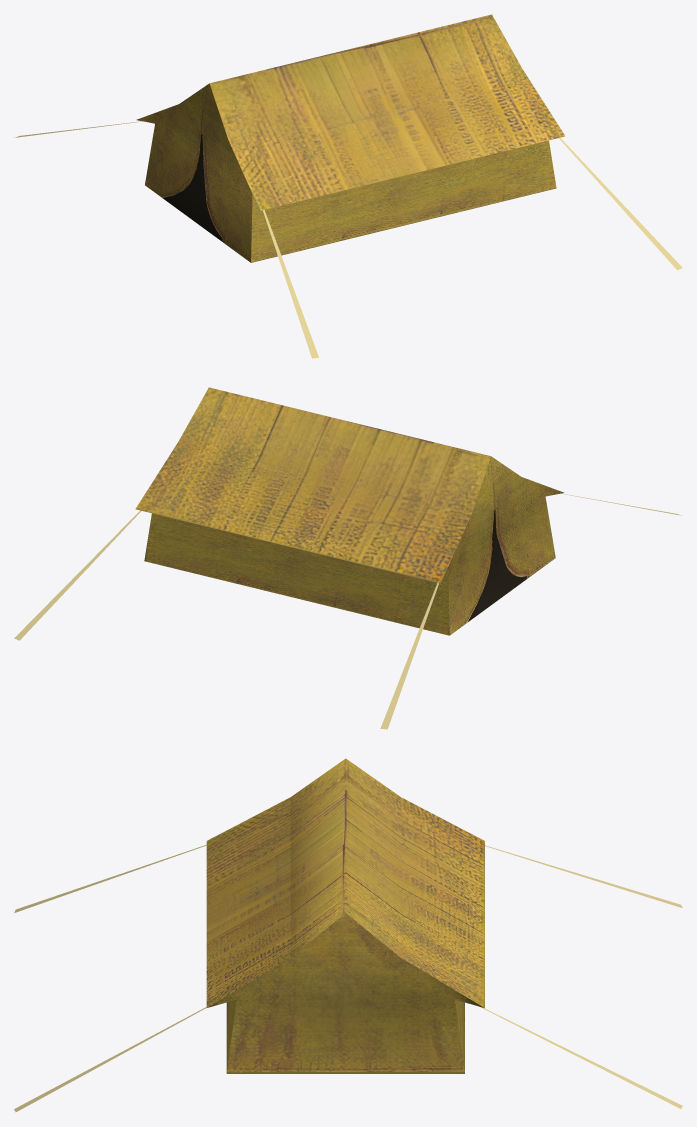
Rendered from deserttent.gltf.
The picture shows the model from 3 angles, top to bottom: view 1: azimuth 30°, elevation 25°; view 2: azimuth 150°, elevation 25°; view 3: azimuth 270°, elevation 25°; orthographic projection. The views are drawn at different scales.
Visible parts, largest first — view 1: deserttent_atomic0; view 2: deserttent_atomic0; view 3: deserttent_atomic0.
Part boxes in pixels (<box>): deserttent_atomic0: <box>14,14,682,358</box>; deserttent_atomic0: <box>14,387,681,729</box>; deserttent_atomic0: <box>14,758,682,1112</box>.
Size of the model in its own units: 39.01 by 15.63 by 53.92.
Materials: 2 (1 with a texture image).
